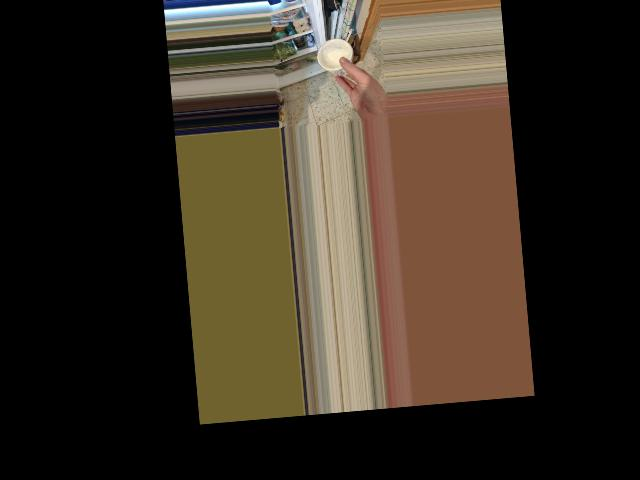cotage: (319, 35, 358, 81)
